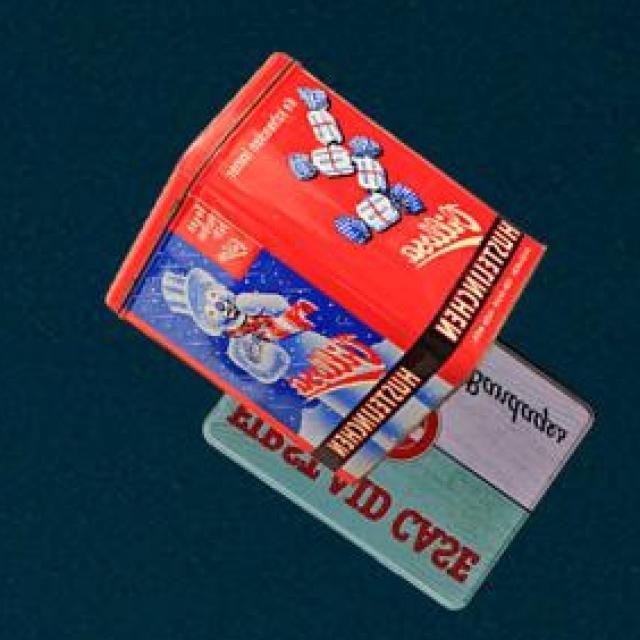logam: (103, 58, 544, 489), (201, 342, 591, 612)
